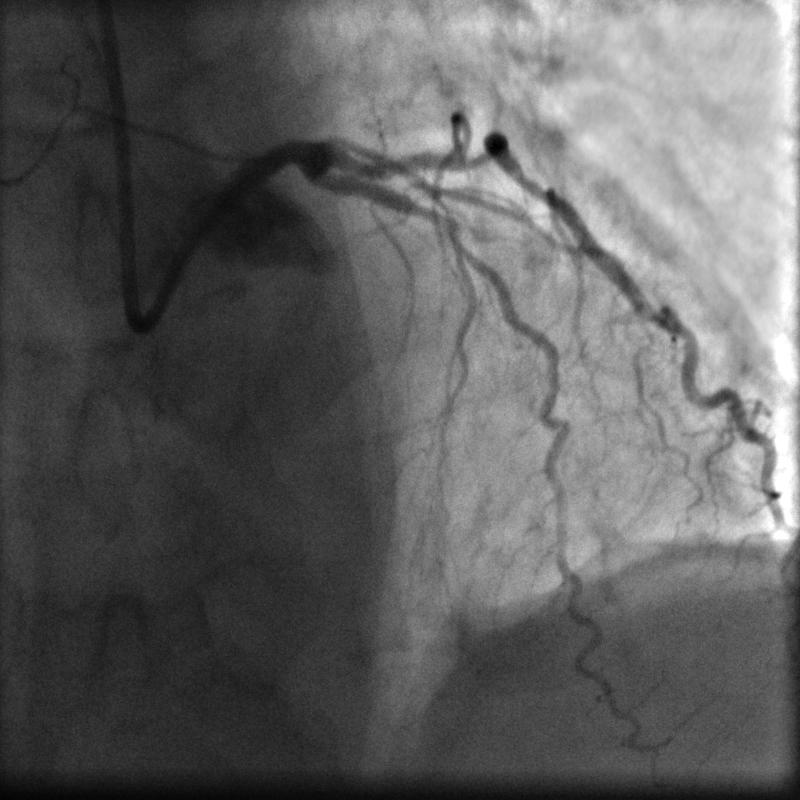Stenosis: (410, 192, 456, 238)
